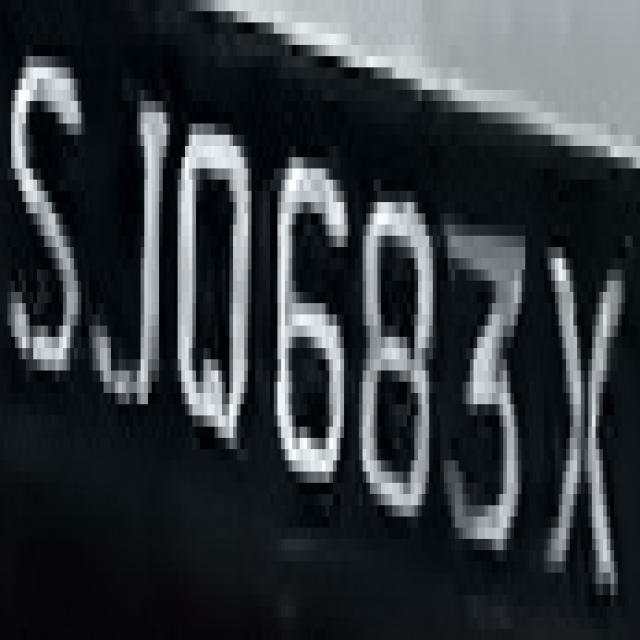3: (448, 157, 525, 584)
6: (262, 123, 348, 506)
8: (344, 146, 440, 550)
J: (89, 45, 174, 471)
Q: (178, 68, 259, 460)
S: (8, 11, 92, 404)
X: (540, 214, 629, 606)
